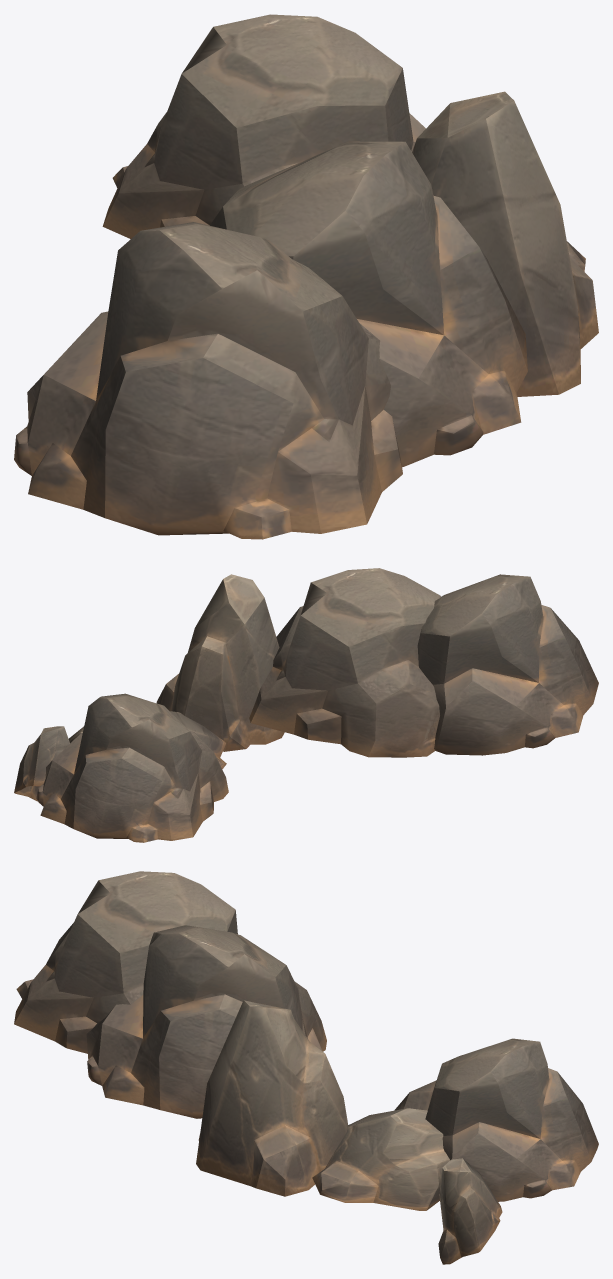
File: pref_sm_beach_bk_pointmol_leftrock_lv2.fbx
The picture shows the model from 3 angles, top to bottom: view 1: azimuth 30°, elevation 25°; view 2: azimuth 150°, elevation 25°; view 3: azimuth 270°, elevation 25°; orthographic projection. The views are drawn at different scales.
Visible parts, largest first — view 1: pref_sm_beach_bk_pointmol_leftrock_lv2; view 2: pref_sm_beach_bk_pointmol_leftrock_lv2; view 3: pref_sm_beach_bk_pointmol_leftrock_lv2.
Boxes of the visible parts, bbox=[...] form: pref_sm_beach_bk_pointmol_leftrock_lv2: bbox=[14, 14, 598, 539]; pref_sm_beach_bk_pointmol_leftrock_lv2: bbox=[14, 568, 598, 842]; pref_sm_beach_bk_pointmol_leftrock_lv2: bbox=[14, 871, 598, 1264].
Bounding box in the file's own units: 8.21 × 3.73 × 9.06.
